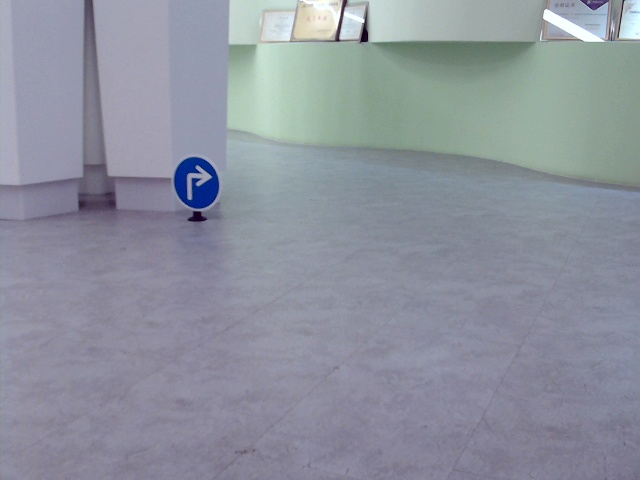turn_right: (179, 165, 209, 198)
